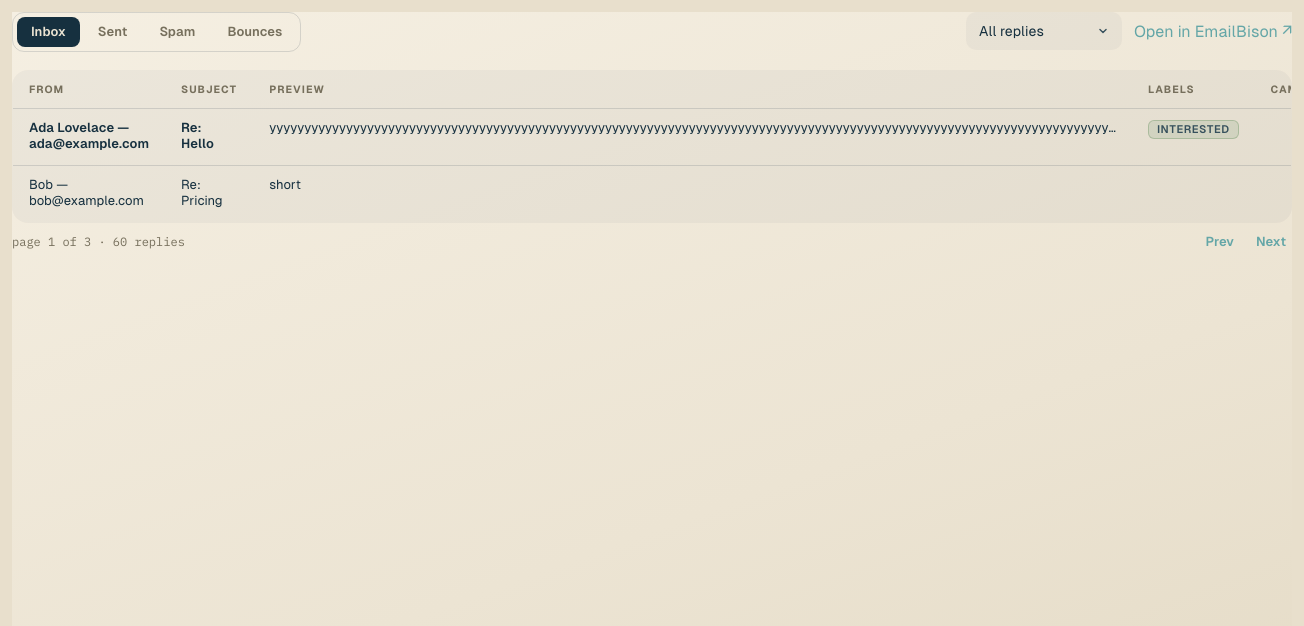
Test: RepliesList (Master Inbox) › folders are tabs in EmailBison's order; Bounces fetches folder=bounced and shows the Bounce chip
Expected: the text "Ada Lovelace — ada@example.com" is shown, [29,120,149,151]
Step 1. Click the tab "Bounces" → coordinates (255, 32), box [213,17,296,47]
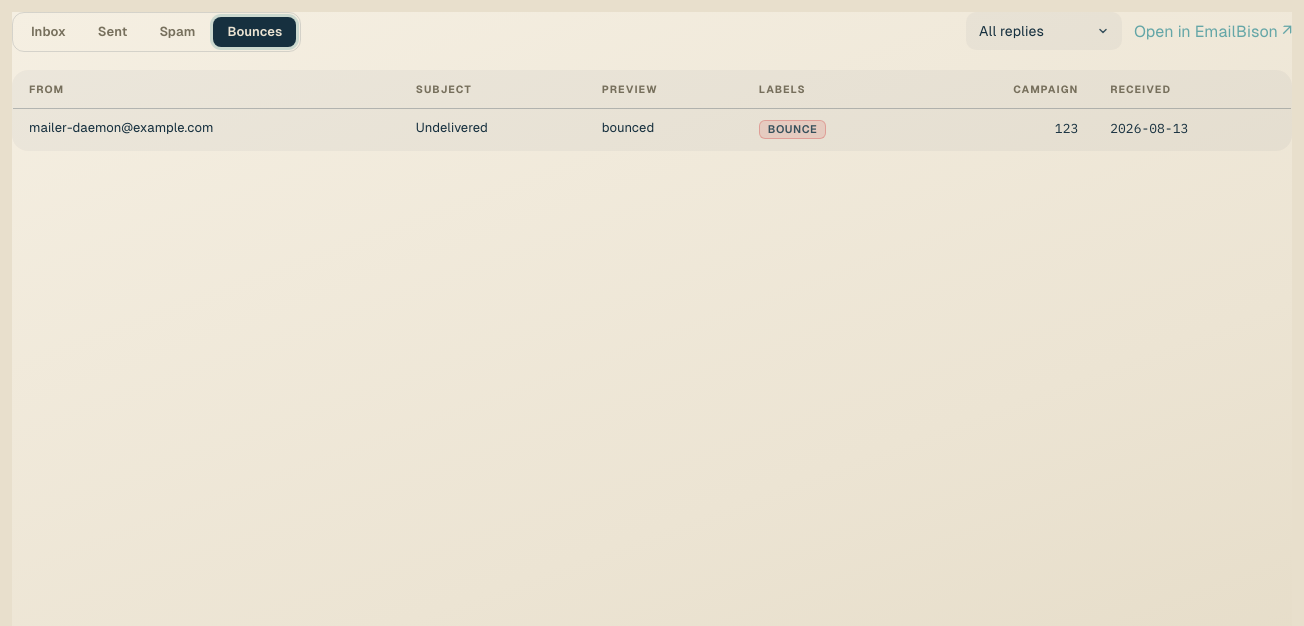
Result: the text "Bounce" is shown at [759,120,826,139]
